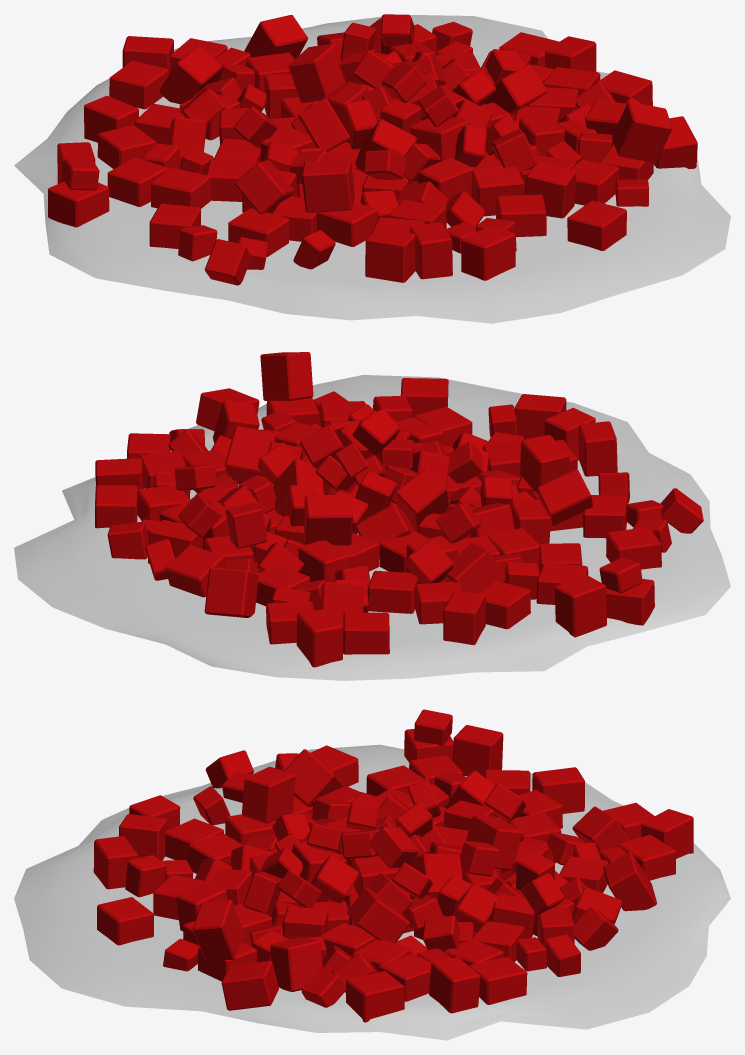
The model's file is TomatoDiced 1.fbx.
3 renders of one model, top to bottom at view 1: azimuth 30°, elevation 25°; view 2: azimuth 150°, elevation 25°; view 3: azimuth 270°, elevation 25°, orthographic. The views are drawn at different scales.
Parts seen in each view (by area): view 1: Icosphere.050; view 2: Icosphere.050; view 3: Icosphere.050.
Part boxes in pixels (bbox=[...]): Icosphere.050: bbox=[14, 14, 730, 323]; Icosphere.050: bbox=[14, 352, 730, 680]; Icosphere.050: bbox=[14, 709, 730, 1040].
Size of the model in its own units: 216 by 38.81 by 222.
